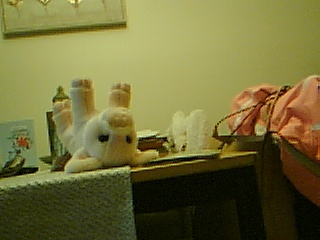piggy: (51, 76, 159, 174)
